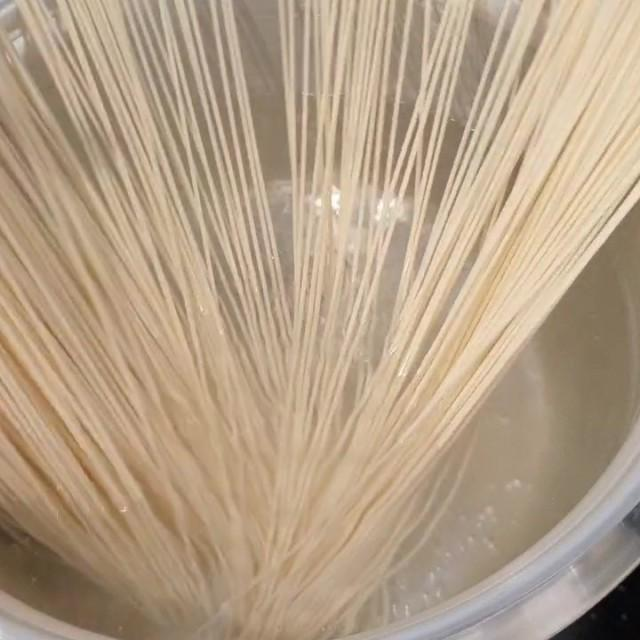noodles: (0, 0, 596, 501)
